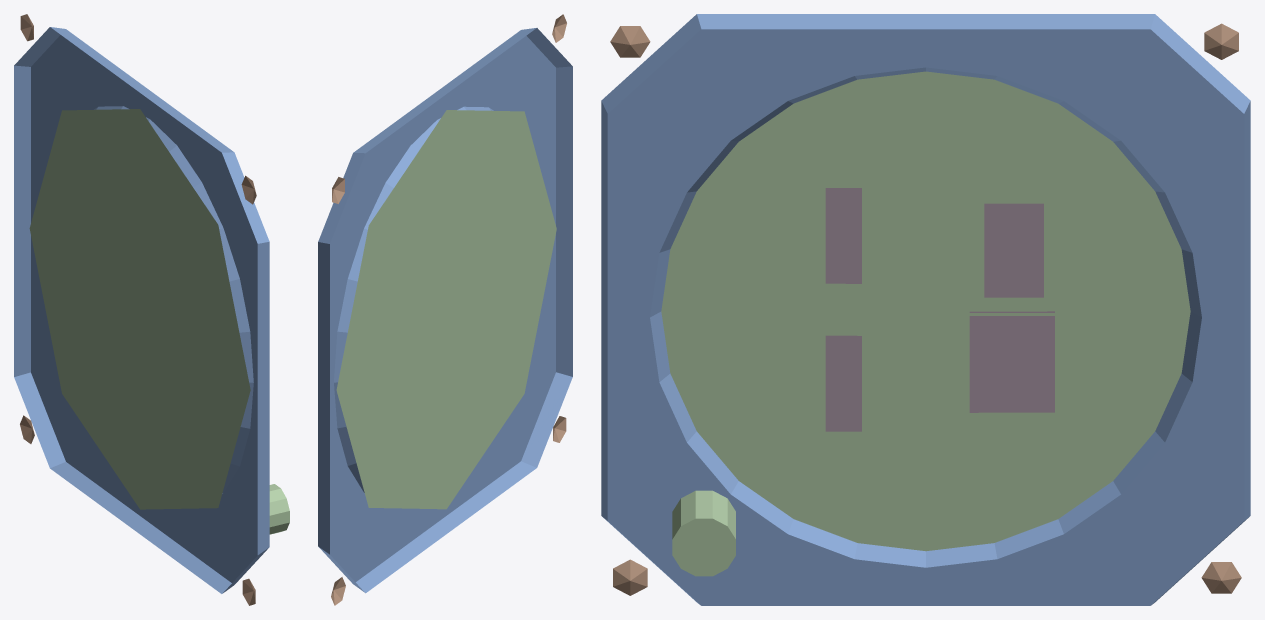
The model's file is dc9-src-large-gauge-001.glb.
3 views of the same model, side by side, from view 1: azimuth 30°, elevation 25°; view 2: azimuth 150°, elevation 25°; view 3: azimuth 270°, elevation 25° (orthographic). The views are drawn at different scales.
Parts seen in each view (by area): view 1: AltFace, Bezel_35, Screws_35, BaroKnob; view 2: AltFace, Bezel_35, Screws_35; view 3: AltFace, Bezel_35, altnum100, BaroKnob, Screws_35, altnum1000, altnum10000, ALTneedle, inhg03, inhg04, inhg02, inhg01 (+4 smaller).
Part boxes in pixels (<box>): AltFace: <box>29,109,250,509</box>; Bezel_35: <box>14,27,269,593</box>; Screws_35: <box>20,14,256,605</box>; BaroKnob: <box>269,484,289,534</box>; AltFace: <box>336,110,556,509</box>; Bezel_35: <box>318,28,572,593</box>; Screws_35: <box>331,14,566,605</box>; AltFace: <box>661,71,1190,551</box>; Bezel_35: <box>601,14,1250,605</box>; altnum100: <box>969,311,1054,412</box>; BaroKnob: <box>672,490,735,576</box>; Screws_35: <box>610,23,1241,595</box>; altnum1000: <box>984,250,1043,297</box>; altnum10000: <box>984,203,1043,250</box>; ALTneedle: <box>936,304,1147,324</box>; inhg03: <box>825,383,861,407</box>; inhg04: <box>825,407,861,431</box>; inhg02: <box>825,359,861,383</box>; inhg01: <box>825,335,861,359</box>.
Size of the model in its own units: 0.0123 by 0.0878 by 0.0878.
